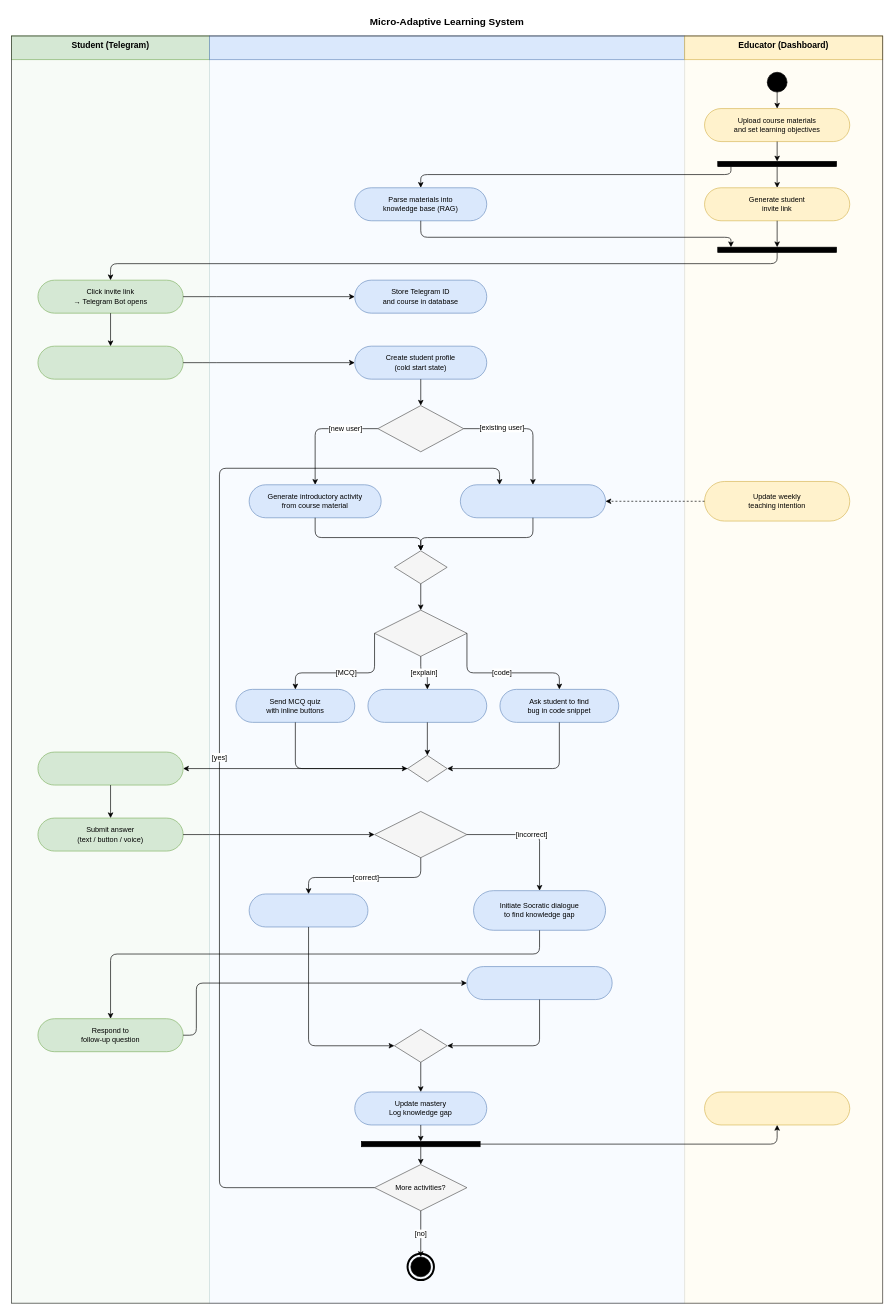
This 894x1315 diagram has some shape labels left out. The shapes that lost their labels are listed below. From the top down, each one's centre as x and y in pixels, then its label:
At point 447,47: "System (Backend)".
At point 110,362: "Select interests and learning style".
At point 533,501: "Select activity based on mastery and educator intention".
At point 427,705: "Ask student to explain concept in own words".
At point 110,768: "Receive activity on Telegram".
At point 308,910: "Update mastery Send encouragement".
At point 539,983: "Provide personalised explanation using student interests".
At point 777,1108: "View class mastery heatmap and weak concepts".
